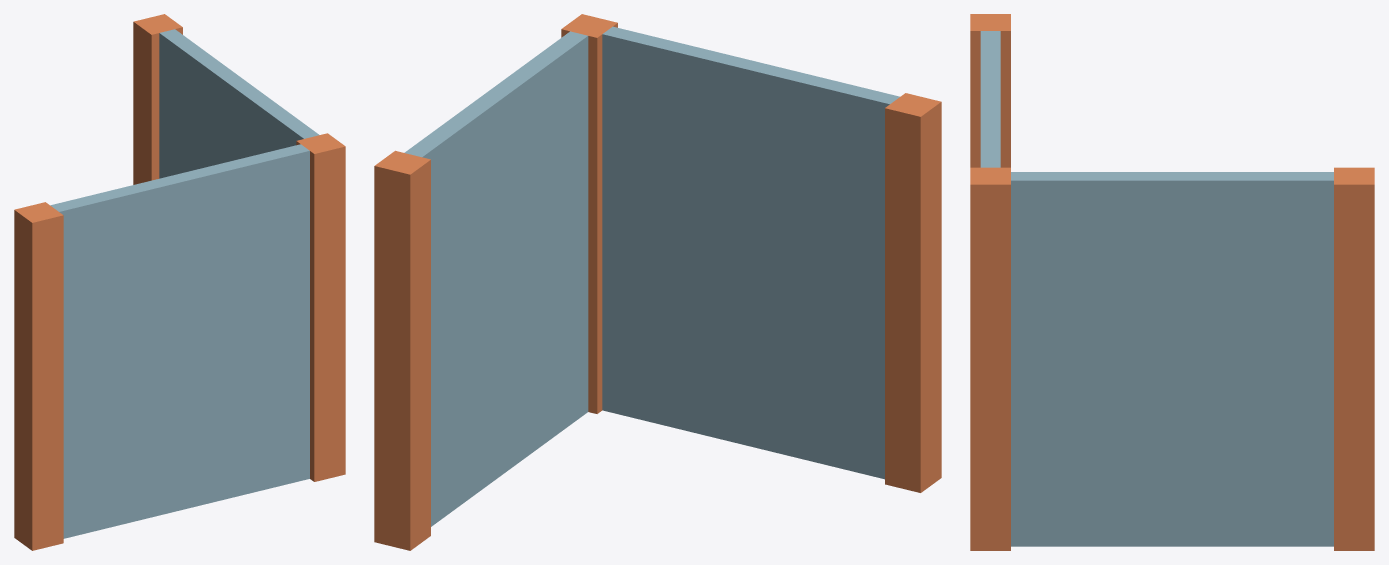
File: wallCorner.obj
3 views of the same model, side by side, from view 1: azimuth 30°, elevation 25°; view 2: azimuth 150°, elevation 25°; view 3: azimuth 270°, elevation 25° (orthographic). The views are drawn at different scales.
Visible parts, largest first — view 1: wallCorner; view 2: wallCorner; view 3: wallCorner.
Boxes of the visible parts, box(x1,y1,x2,y2) form: wallCorner: box(14, 14, 345, 550); wallCorner: box(374, 14, 941, 550); wallCorner: box(970, 14, 1374, 550).
Bounding box in the file's own units: 1 × 1 × 1.
